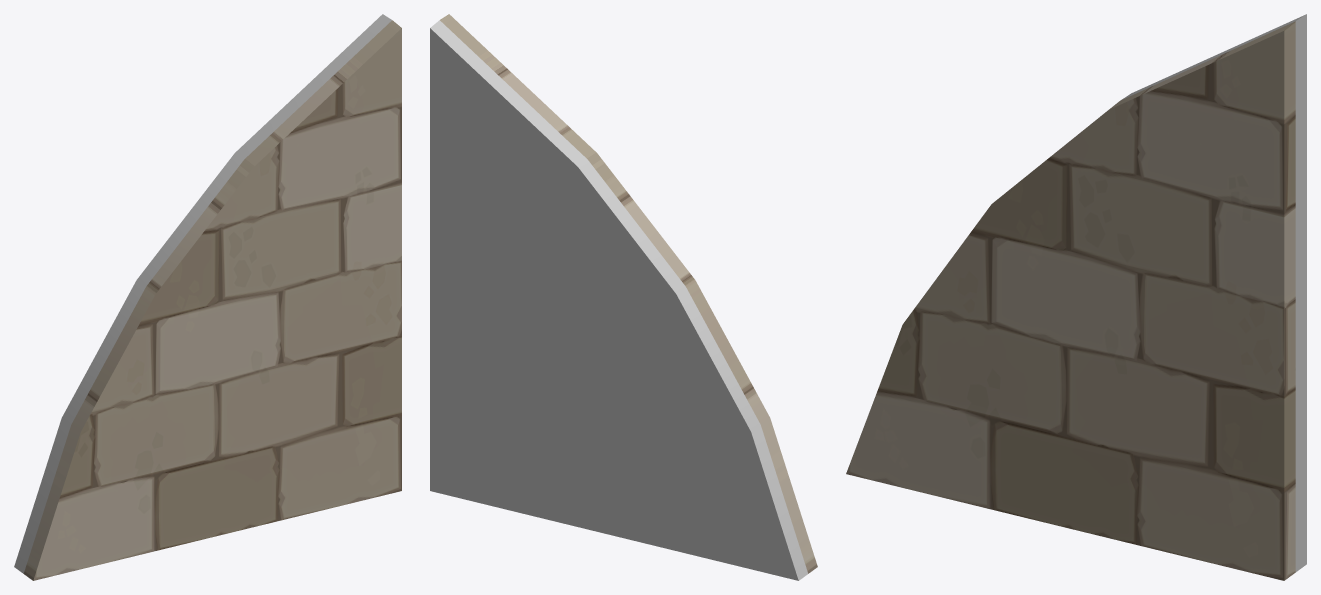
Rendered from SM_Bld_Wall_End_Convex_01.fbx.
3 views of the same model, side by side, from view 1: azimuth 30°, elevation 25°; view 2: azimuth 150°, elevation 25°; view 3: azimuth 330°, elevation 25° (orthographic). The views are drawn at different scales.
Parts seen in each view (by area): view 1: SM_Bld_Wall_End_Convex_01; view 2: SM_Bld_Wall_End_Convex_01; view 3: SM_Bld_Wall_End_Convex_01.
Part boxes in pixels (left/top/right/bottom): SM_Bld_Wall_End_Convex_01: left=14, top=14, right=401, bottom=580; SM_Bld_Wall_End_Convex_01: left=430, top=14, right=817, bottom=580; SM_Bld_Wall_End_Convex_01: left=846, top=14, right=1306, bottom=580.
Size of the model in its own units: 250 by 301 by 22.5.
